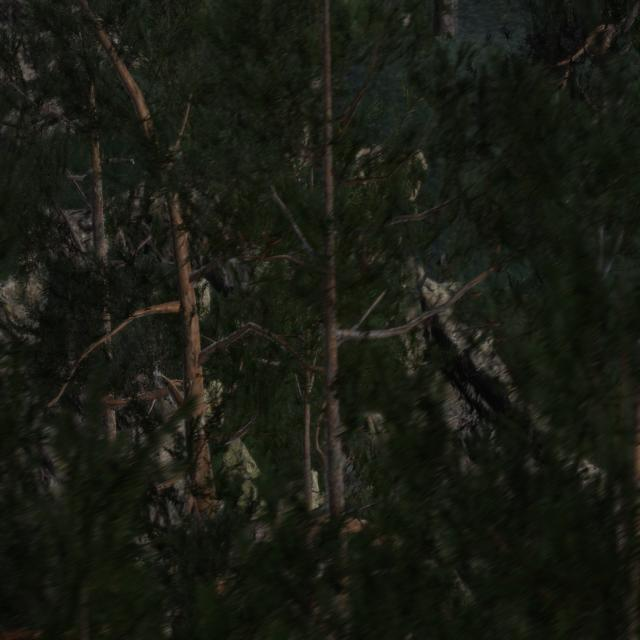Human: (227, 274, 259, 406)
